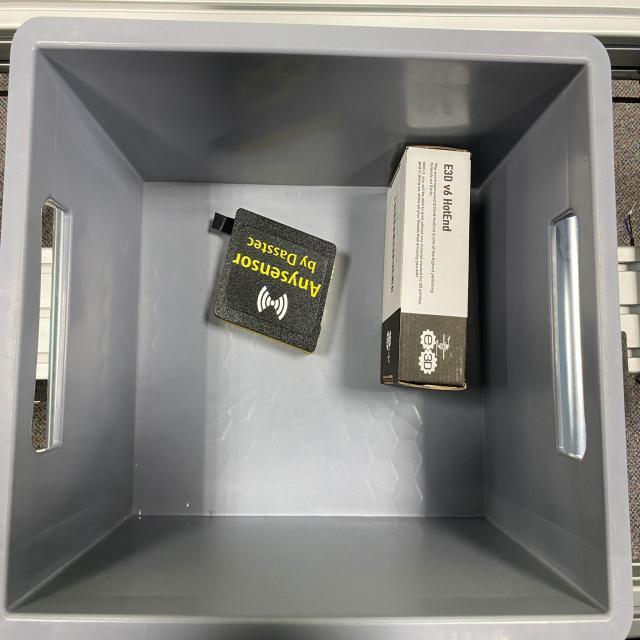box: (381, 144, 474, 396), (206, 203, 339, 357)
